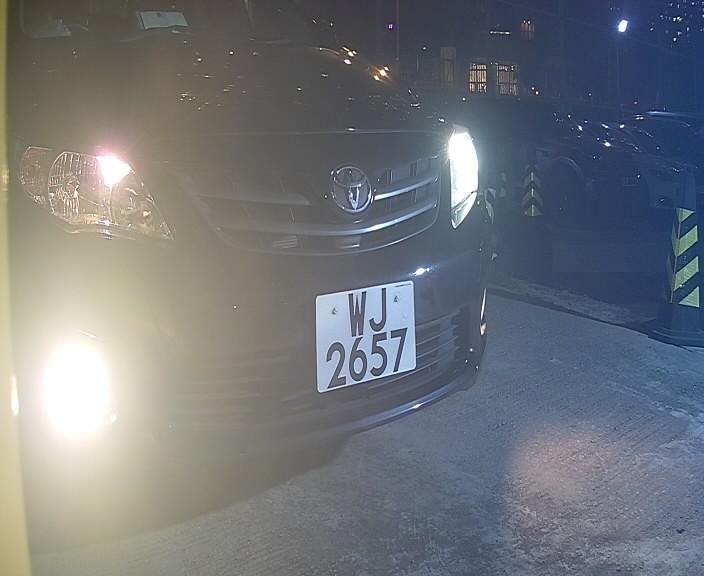Car: (38, 13, 585, 525)
License Plate: (302, 268, 422, 399)
